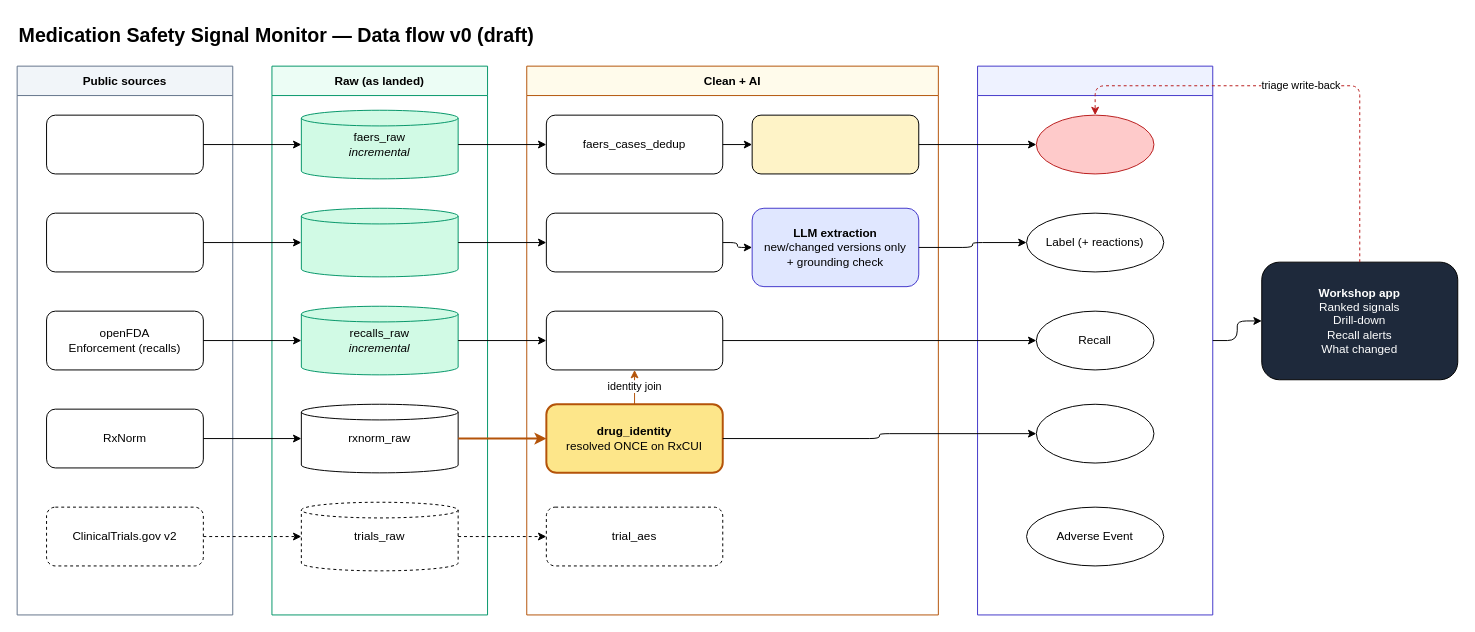
This 1475x632 diagram has some shape labels left out. The box of each missing label's shape, as (x1, y1, x2, y2) in pixels:
DailyMed SPL XML (unstructured): (46, 212, 203, 272)
Disproportionality PRR / ROR: (751, 114, 919, 174)
Drug: (1035, 403, 1154, 463)
FAERS quarterly files: (46, 114, 203, 174)
label_sections: (545, 212, 723, 272)
labels_raw incremental: (300, 207, 458, 277)
Ontology: (977, 65, 1213, 615)
recalls_clean: (545, 310, 723, 370)
Signal: (1035, 114, 1154, 174)
